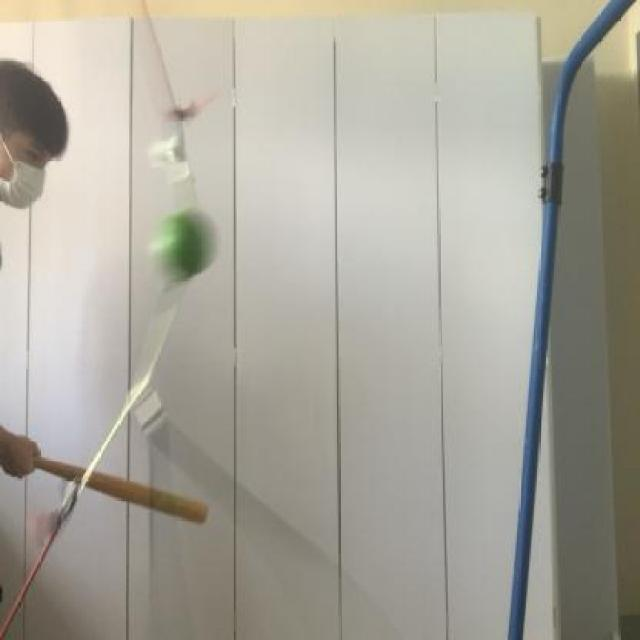baseball: (142, 196, 224, 295)
